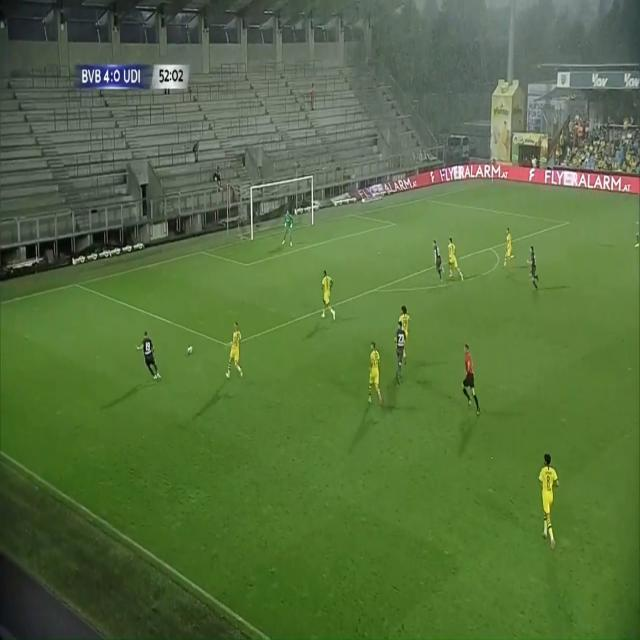ball: (183, 343, 197, 360)
goalkeeper: (279, 203, 297, 254)
player: (538, 452, 561, 555), (224, 318, 248, 393), (133, 331, 162, 386), (445, 230, 468, 290), (367, 339, 385, 415), (398, 299, 417, 366), (317, 268, 337, 325), (392, 321, 408, 391), (498, 230, 522, 274), (527, 244, 546, 296), (431, 238, 448, 286)
referee: (459, 338, 483, 418)
